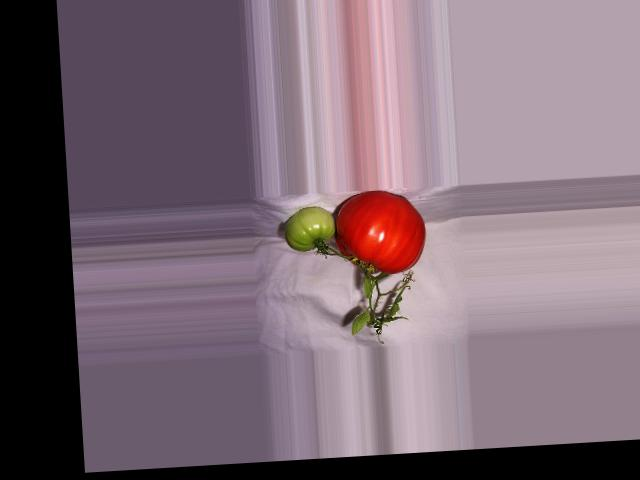tomato: (331, 188, 427, 277)
